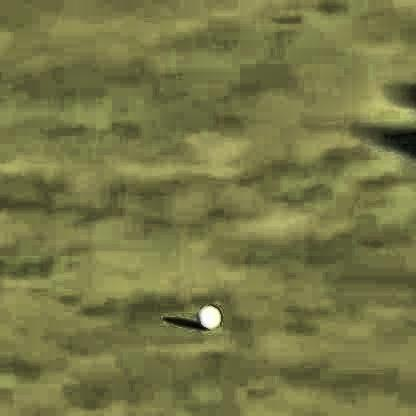golfball: (196, 298, 218, 326)
